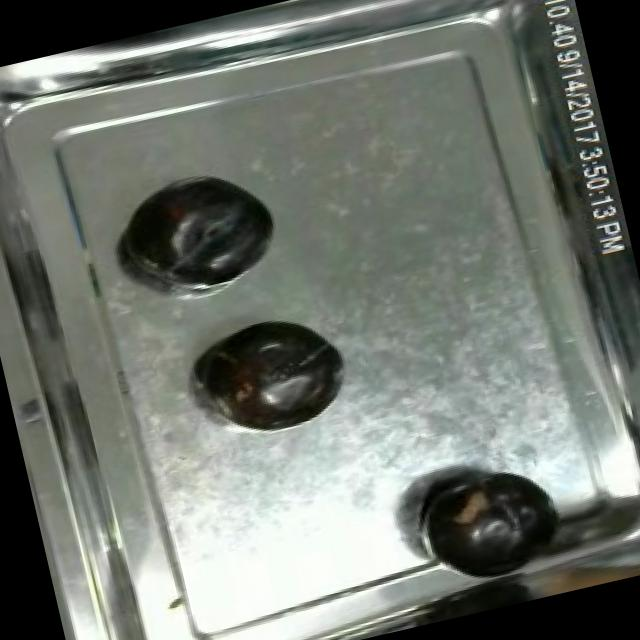Fruit: (114, 156, 290, 300), (398, 448, 576, 590), (185, 301, 358, 444)
